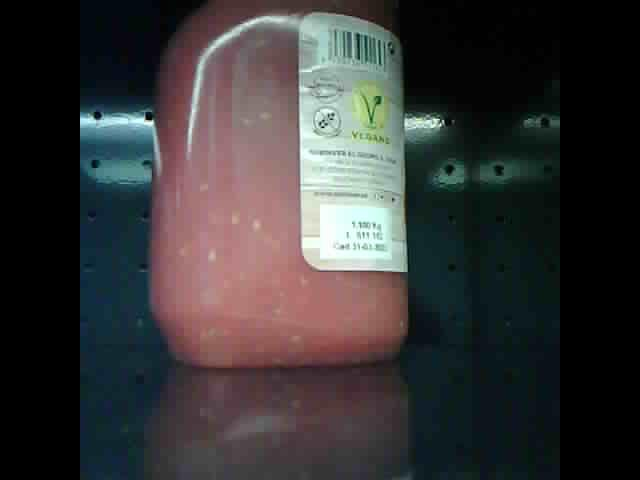tomate: (150, 10, 405, 371)
